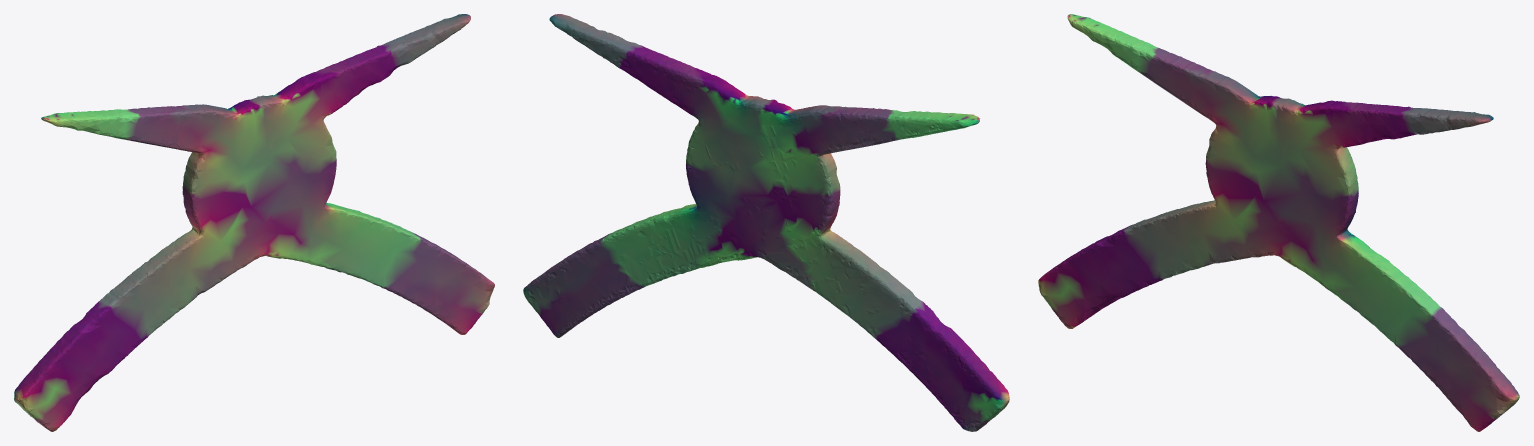
The model's file is scissor-1.off.obj.
3 views of the same model, side by side, from view 1: azimuth 30°, elevation 25°; view 2: azimuth 150°, elevation 25°; view 3: azimuth 330°, elevation 25° (orthographic).
Size of the model in its own units: 1.61 by 1.02 by 0.0632.
